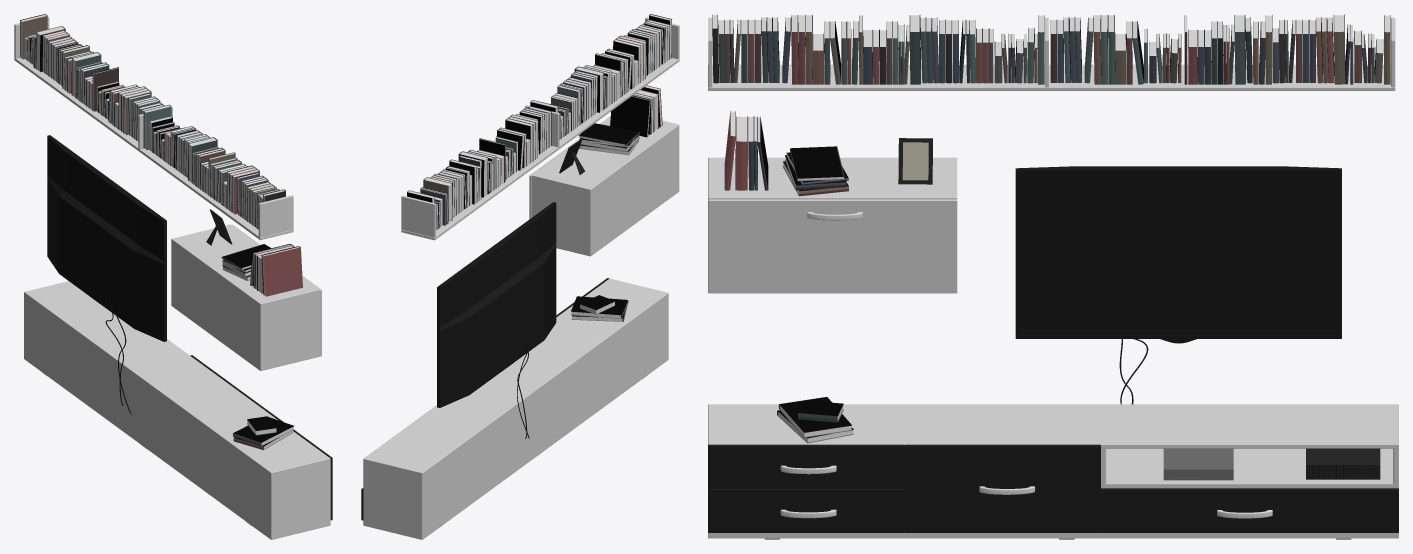
The model's file is tv table .fbx.
3 renders of one model, left to right at view 1: azimuth 30°, elevation 25°; view 2: azimuth 150°, elevation 25°; view 3: azimuth 270°, elevation 25°, orthographic. The views are drawn at different scales.
Parts seen in each view (by area): view 1: TV Unit; view 2: TV Unit; view 3: TV Unit.
Boxes of the visible parts, bbox=[...] form: TV Unit: bbox=[14, 14, 332, 539]; TV Unit: bbox=[361, 14, 679, 539]; TV Unit: bbox=[708, 14, 1398, 539].
Size of the model in its own units: 60.37 by 255 by 331.
Materials: 11 (1 with a texture image).
